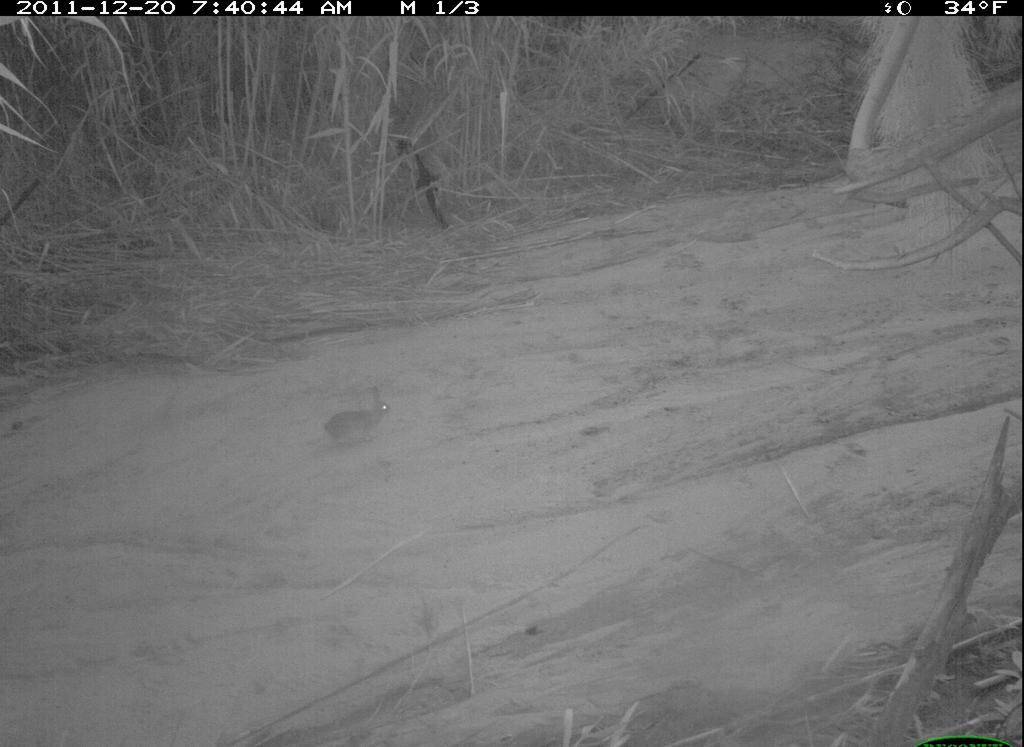rabbit: (313, 378, 400, 459)
